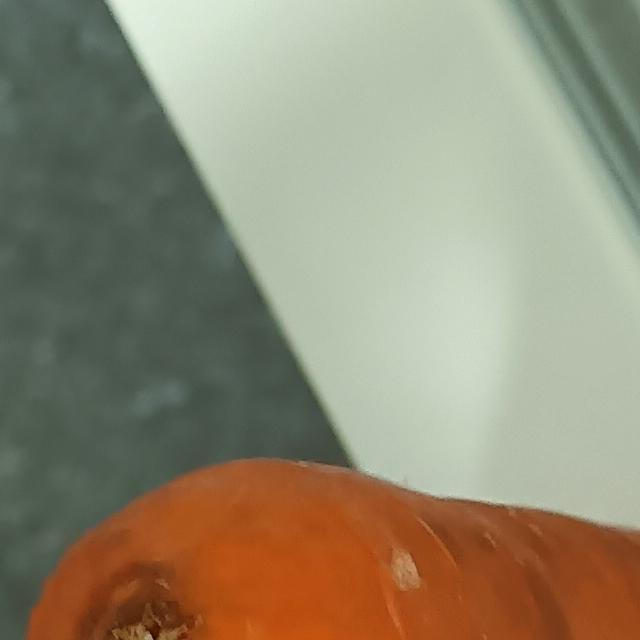carrot: (7, 452, 640, 640)
